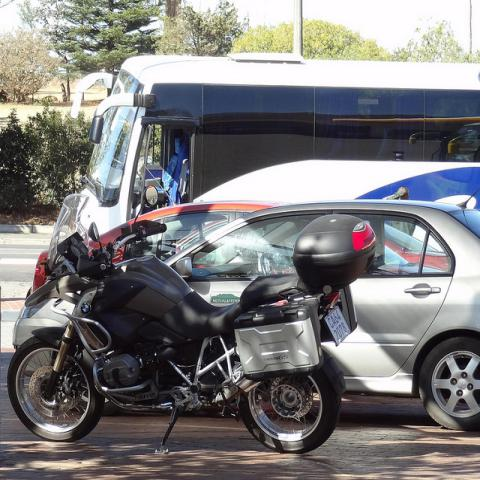bus: (78, 55, 479, 235)
car: (155, 197, 478, 424), (26, 203, 256, 298)
motorcycle: (7, 193, 375, 448)
